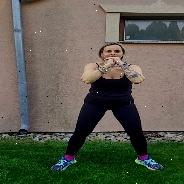squats: (46, 32, 172, 180)
